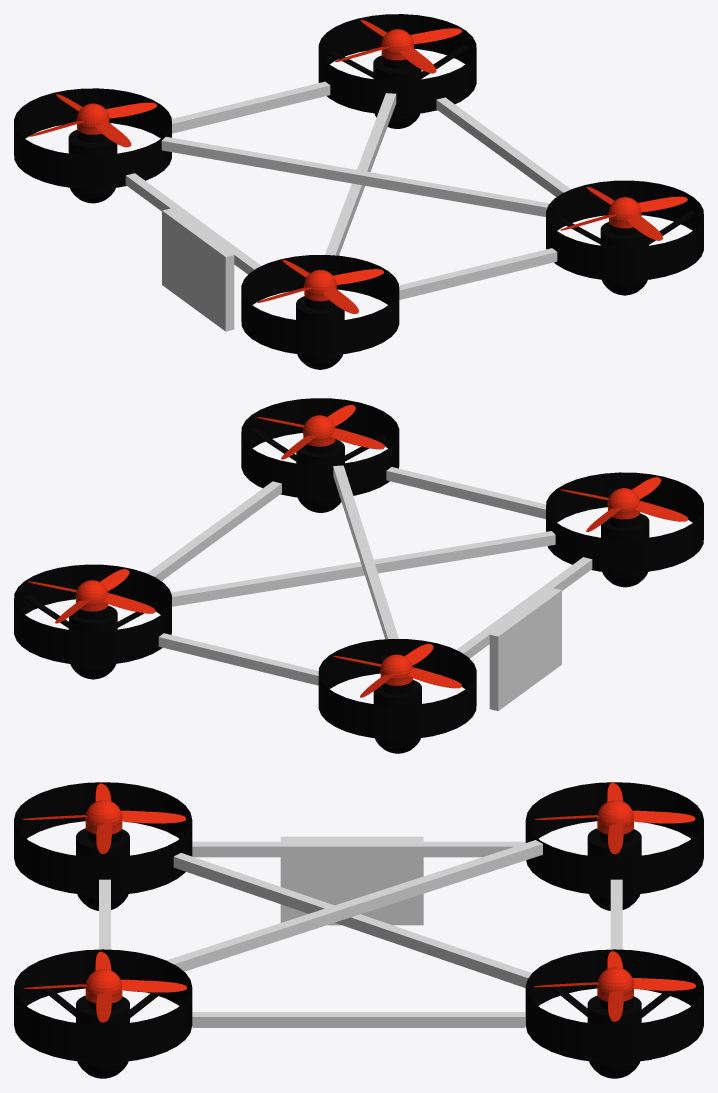
The model's file is 繝峨Ο繝ｼ繝ｳ.fbx.
3 views of the same model, one above another, from view 1: azimuth 30°, elevation 25°; view 2: azimuth 150°, elevation 25°; view 3: azimuth 270°, elevation 25° (orthographic). The views are drawn at different scales.
Visible parts, largest first — view 1: 円柱.005, 円柱.008, 円柱.014, 円柱.001, Cube, 立方体.032, 立方体.030, 立方体.015, 立方体.033, 立方体.034, プロペラ３, プロペラ２ (+4 smaller); view 2: 円柱.014, 円柱.005, 円柱.008, 円柱.001, Cube, 立方体.034, 立方体.032, 立方体.030, 立方体.015, 立方体.033, プロペラ４, プロペラ1 (+4 smaller); view 3: 円柱.005, 円柱.014, 円柱.008, 円柱.001, Cube, 立方体.032, 立方体.034, 立方体.031, 立方体.033, プロペラ４, プロペラ1, プロペラ２ (+4 smaller).
Boxes of the visible parts, left/top/right/bottom form: 円柱.005: left=546, top=180, right=703, bottom=295; 円柱.008: left=241, top=255, right=399, bottom=369; 円柱.014: left=14, top=88, right=171, bottom=203; 円柱.001: left=318, top=14, right=476, bottom=114; Cube: left=162, top=208, right=234, bottom=331; 立方体.032: left=161, top=136, right=549, bottom=216; 立方体.030: left=171, top=81, right=330, bottom=133; 立方体.015: left=399, top=248, right=557, bottom=299; 立方体.033: left=436, top=97, right=570, bottom=196; 立方体.034: left=325, top=93, right=396, bottom=255; プロペラ３: left=335, top=19, right=461, bottom=73; プロペラ２: left=28, top=94, right=156, bottom=147; 円柱.014: left=318, top=639, right=476, bottom=753; 円柱.005: left=241, top=398, right=399, bottom=512; 円柱.008: left=546, top=472, right=703, bottom=587; 円柱.001: left=14, top=564, right=171, bottom=665; Cube: left=489, top=588, right=561, bottom=710; 立方体.034: left=171, top=531, right=555, bottom=606; 立方体.032: left=333, top=465, right=398, bottom=639; 立方体.030: left=158, top=633, right=318, bottom=685; 立方体.015: left=386, top=467, right=545, bottom=519; 立方体.033: left=147, top=481, right=281, bottom=581; プロペラ４: left=256, top=405, right=384, bottom=459; プロペラ1: left=560, top=477, right=688, bottom=531; 円柱.005: left=14, top=949, right=192, bottom=1078; 円柱.014: left=525, top=782, right=703, bottom=910; 円柱.008: left=14, top=782, right=192, bottom=910; 円柱.001: left=525, top=949, right=703, bottom=1062; Cube: left=280, top=836, right=423, bottom=925; 立方体.032: left=166, top=840, right=542, bottom=971; 立方体.034: left=173, top=853, right=531, bottom=987; 立方体.031: left=192, top=841, right=525, bottom=857; 立方体.033: left=192, top=1012, right=525, bottom=1027; プロペラ４: left=24, top=951, right=186, bottom=1022; プロペラ1: left=22, top=783, right=185, bottom=854; プロペラ２: left=534, top=783, right=695, bottom=854.
Bounding box in the file's own units: 2093 × 515 × 2516.
